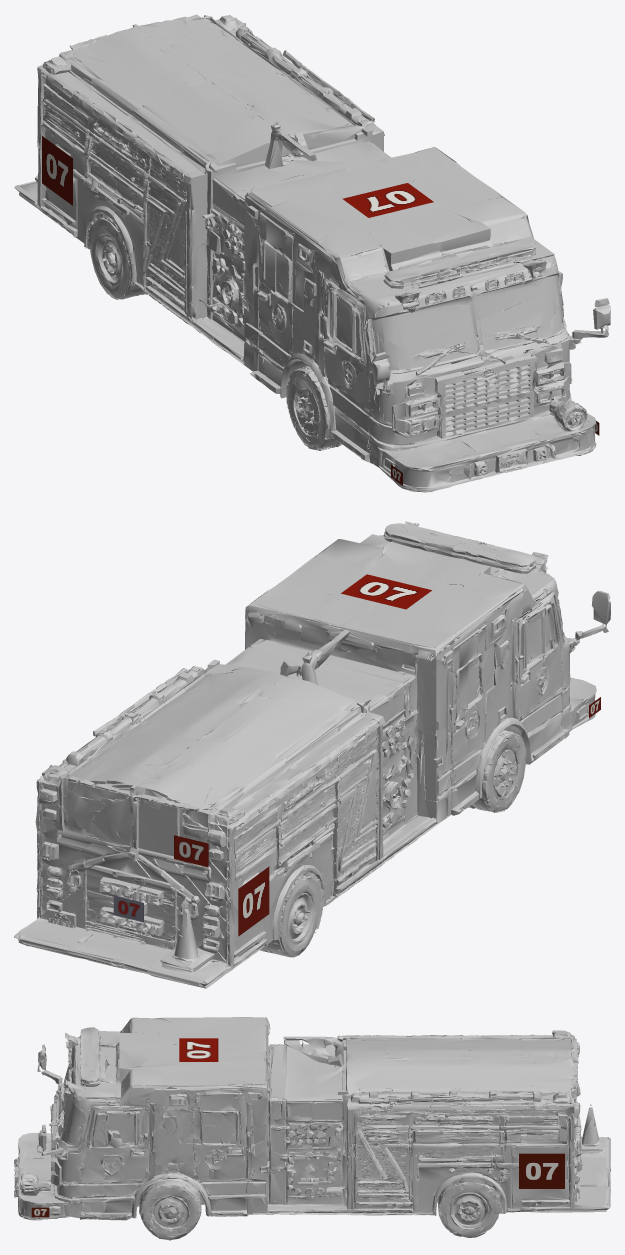
Rendered from Engine07Hi3D.fbx.
The picture shows the model from 3 angles, top to bottom: view 1: azimuth 30°, elevation 25°; view 2: azimuth 150°, elevation 25°; view 3: azimuth 270°, elevation 25°; orthographic projection. The views are drawn at different scales.
Visible parts, largest first — view 1: Engine07_Body, Engine07_Decals, WheelFrontRight, WheelRearRight; view 2: Engine07_Body, Engine07_Decals, WheelFrontRight, WheelRearRight; view 3: Engine07_Body, WheelFrontLeft, WheelRearLeft, Engine07_Decals.
Boxes of the visible parts, <box> form: Engine07_Body: <box>14,14,610,492</box>; Engine07_Decals: <box>42,136,599,485</box>; WheelFrontRight: <box>286,366,342,450</box>; WheelRearRight: <box>85,217,159,299</box>; Engine07_Body: <box>14,521,610,988</box>; Engine07_Decals: <box>113,574,600,936</box>; WheelFrontRight: <box>468,730,526,812</box>; WheelRearRight: <box>260,873,324,957</box>; Engine07_Body: <box>14,1017,610,1231</box>; WheelFrontLeft: <box>139,1177,201,1240</box>; WheelRearLeft: <box>436,1174,502,1237</box>; Engine07_Decals: <box>31,1038,564,1217</box>.
Size of the model in its own units: 3.45 by 3.11 by 10.1.
